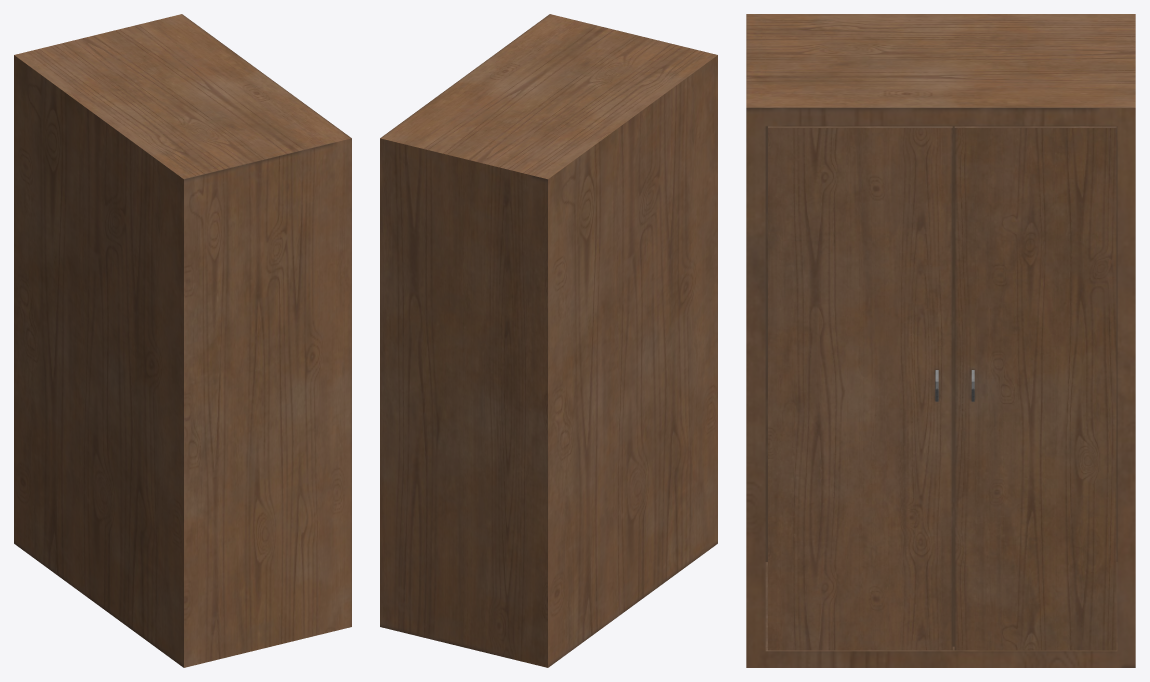
3 views of the same model, side by side, from view 1: azimuth 30°, elevation 25°; view 2: azimuth 150°, elevation 25°; view 3: azimuth 270°, elevation 25° (orthographic). The views are drawn at different scales.
Parts seen in each view (by area): view 1: O14; view 2: O14; view 3: O14_left, O14_right, O14.
Part boxes in pixels (x1,y1,x2,y2): O14: [14, 14, 351, 667]; O14: [380, 14, 717, 667]; O14_left: [768, 126, 952, 650]; O14_right: [954, 126, 1116, 650]; O14: [746, 14, 1135, 667].
Bounding box in the file's own units: 200 × 534 × 336.
Materials: 2 (2 with a texture image).
